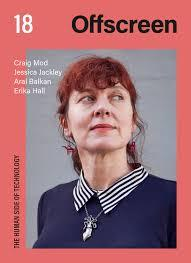Printing industry: (2, 2, 186, 263)
